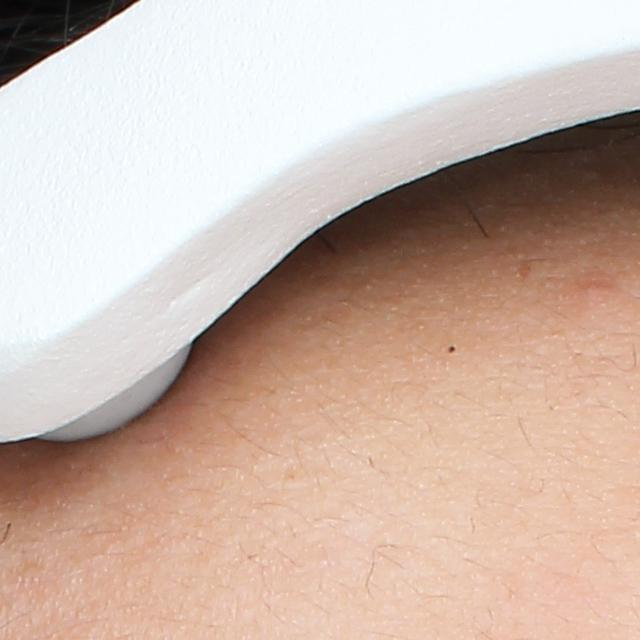comedo: (446, 342, 459, 356)
